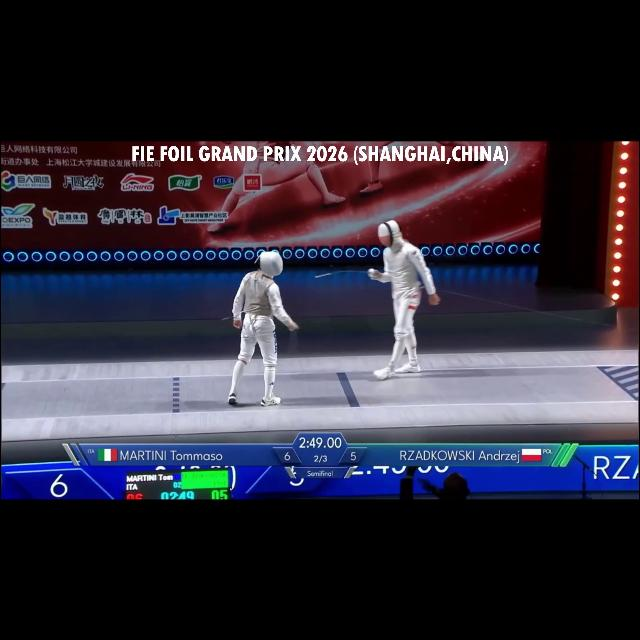blade: (313, 267, 383, 281)
